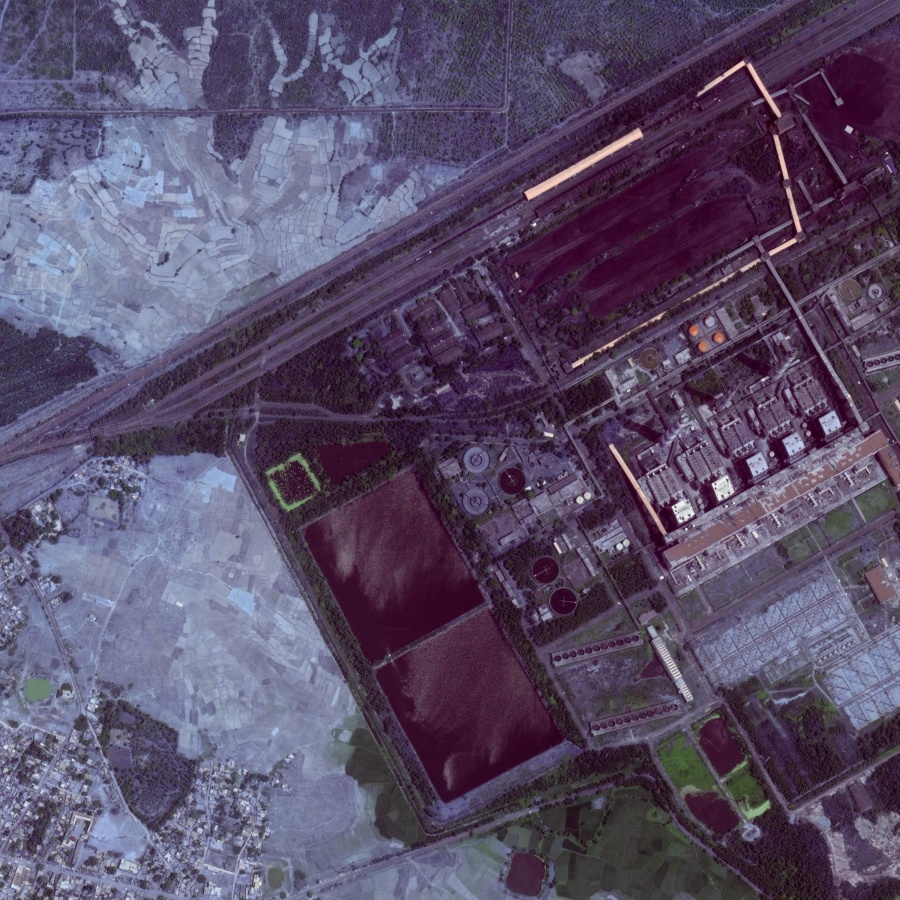PowerPlant: (275, 444, 638, 848)
